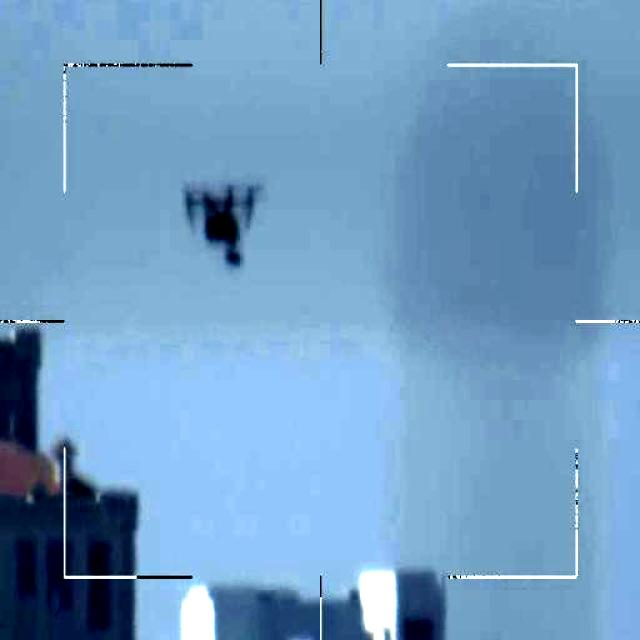bird: (172, 179, 259, 265)
